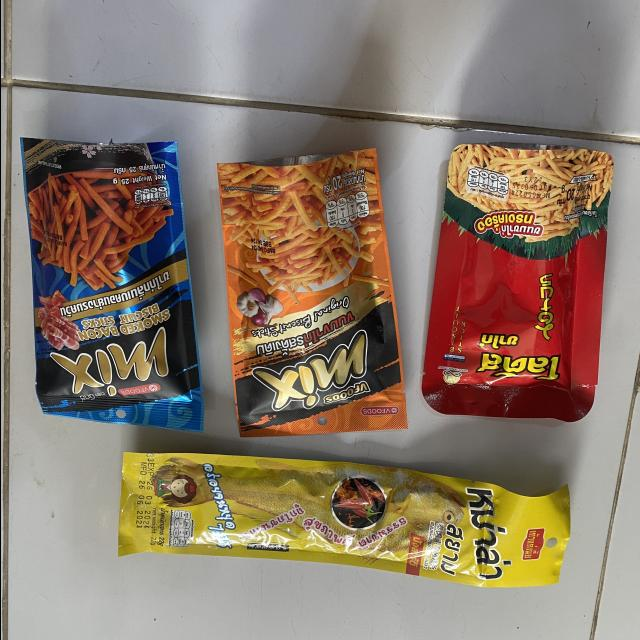plastik: (117, 452, 569, 587), (217, 148, 407, 437), (20, 138, 203, 432), (421, 144, 613, 421)
